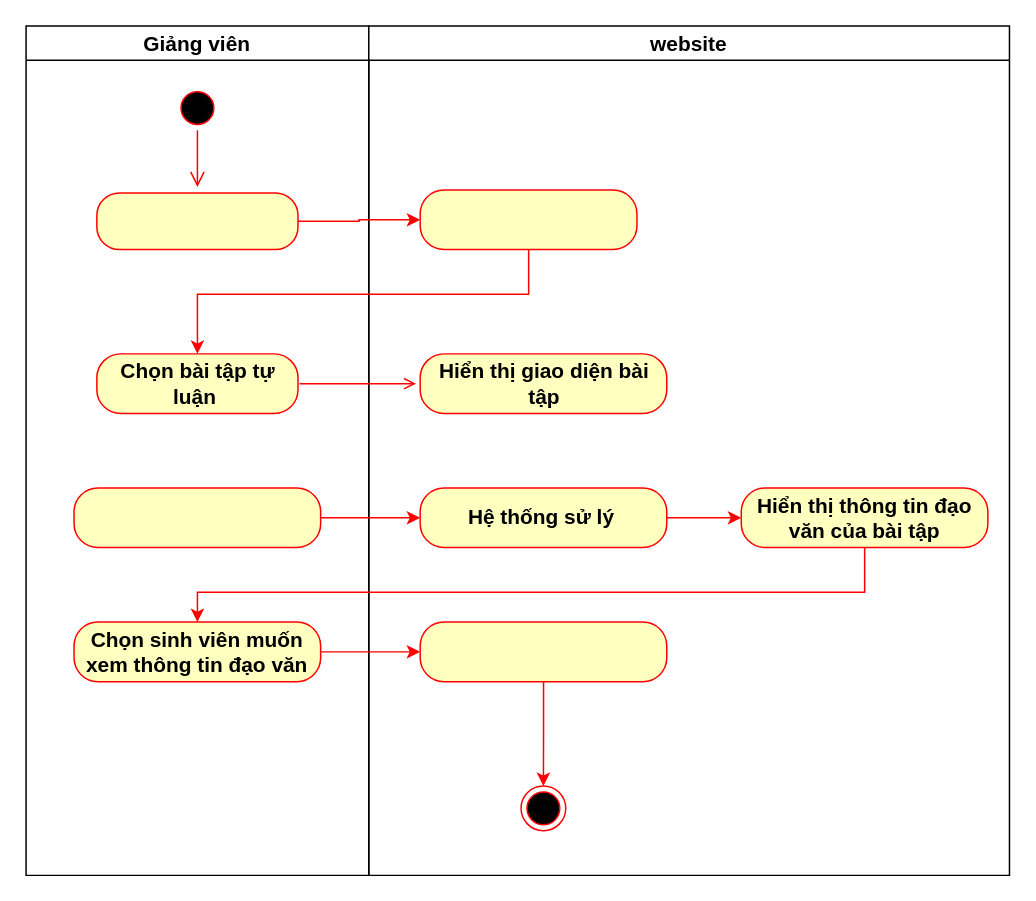
This 1036x901 diagram has some shape labels left out. Here are the shapes that lost their labels. From the top down, the centre of each, then its label:
(196,220): Chọn chức năng bài tập
(528,219): Hiển thị giao diện danh sách bài tập
(197,517): Chọn chức năng kiểm tra đạo văn
(543,651): Hiển thị giao diện đạo văn
